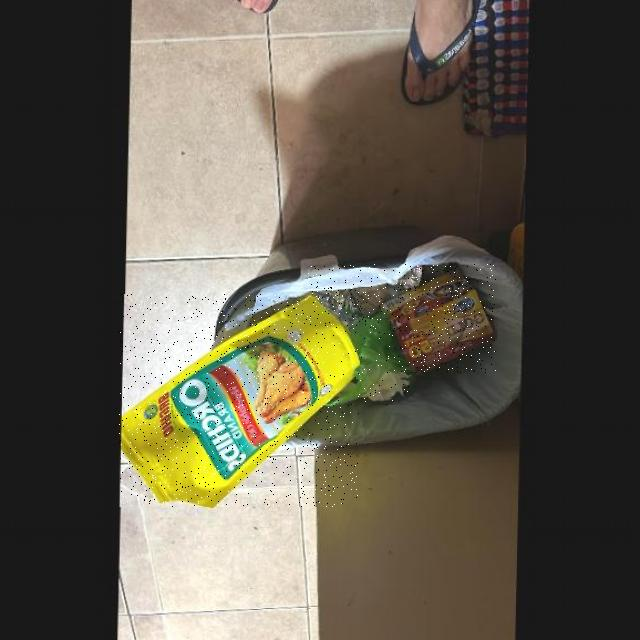metal: (309, 264, 420, 330)
paper: (382, 265, 496, 372), (367, 371, 406, 398)
plastic: (323, 305, 409, 404)
wrapper: (119, 294, 359, 507), (387, 264, 495, 372)
